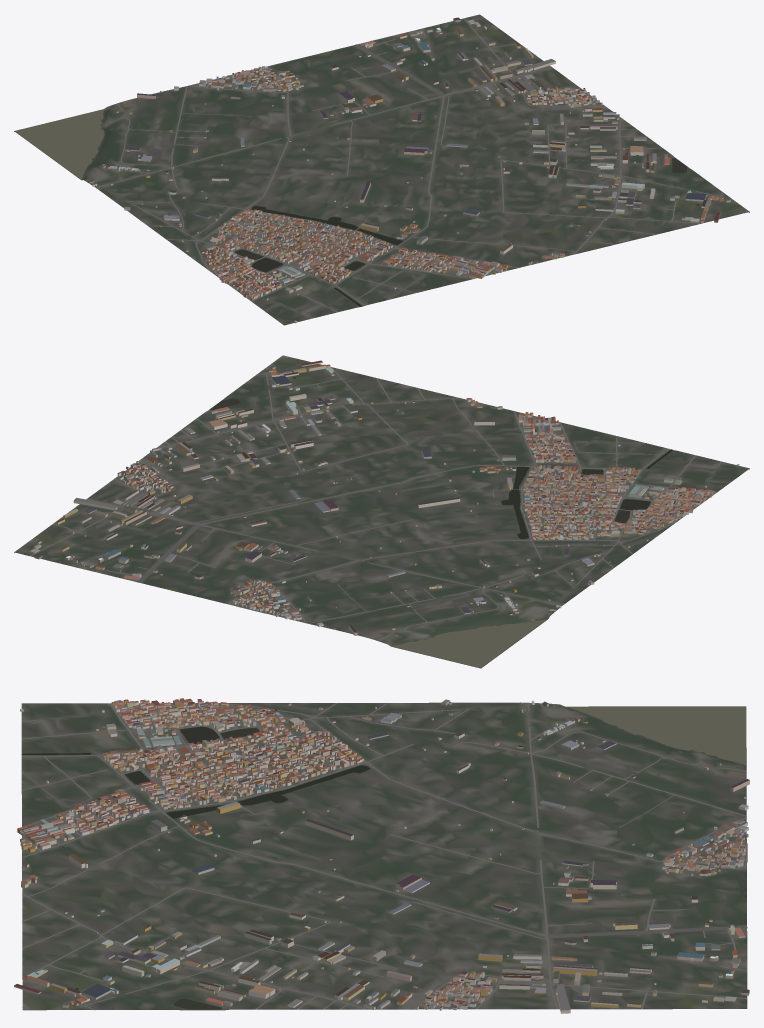
The picture shows the model from 3 angles, top to bottom: view 1: azimuth 30°, elevation 25°; view 2: azimuth 150°, elevation 25°; view 3: azimuth 270°, elevation 25°; orthographic projection. The views are drawn at different scales.
Parts seen in each view (by area): view 1: ground, buildings, roads, water; view 2: ground, buildings, roads, water; view 3: ground, buildings, roads, water.
Part boxes in pixels (bbox=[...]): ground: bbox=[14, 14, 749, 325]; buildings: bbox=[89, 17, 730, 323]; roads: bbox=[95, 18, 747, 318]; water: bbox=[15, 109, 699, 306]; ground: bbox=[14, 355, 749, 668]; buildings: bbox=[29, 360, 739, 636]; roads: bbox=[30, 356, 721, 640]; water: bbox=[210, 377, 672, 667]; ground: bbox=[21, 702, 747, 1010]; buildings: bbox=[14, 698, 749, 1013]; roads: bbox=[21, 702, 747, 1010]; water: bbox=[21, 706, 745, 1009].
Bounding box in the file's own units: 1428 × 21.55 × 1423.
